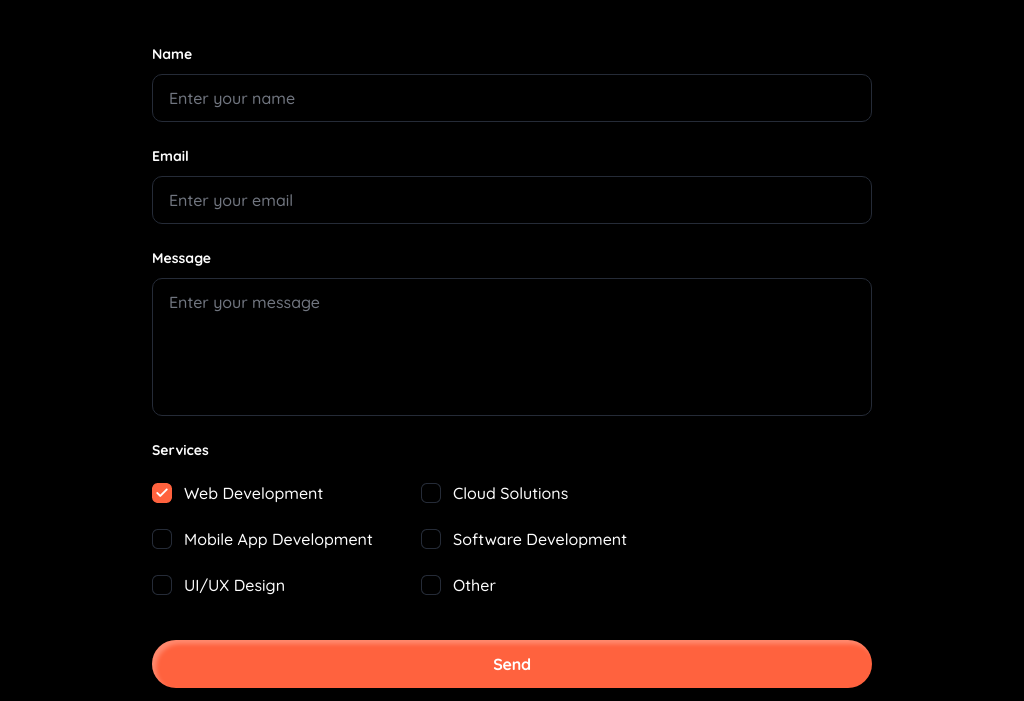
Test: ContactFormSection › clears the required-field error once the field is filled in
The image size is (1024, 701).
(page scrolled)
Click the button "Send".
click(512, 664)  # box [152, 640, 872, 688]
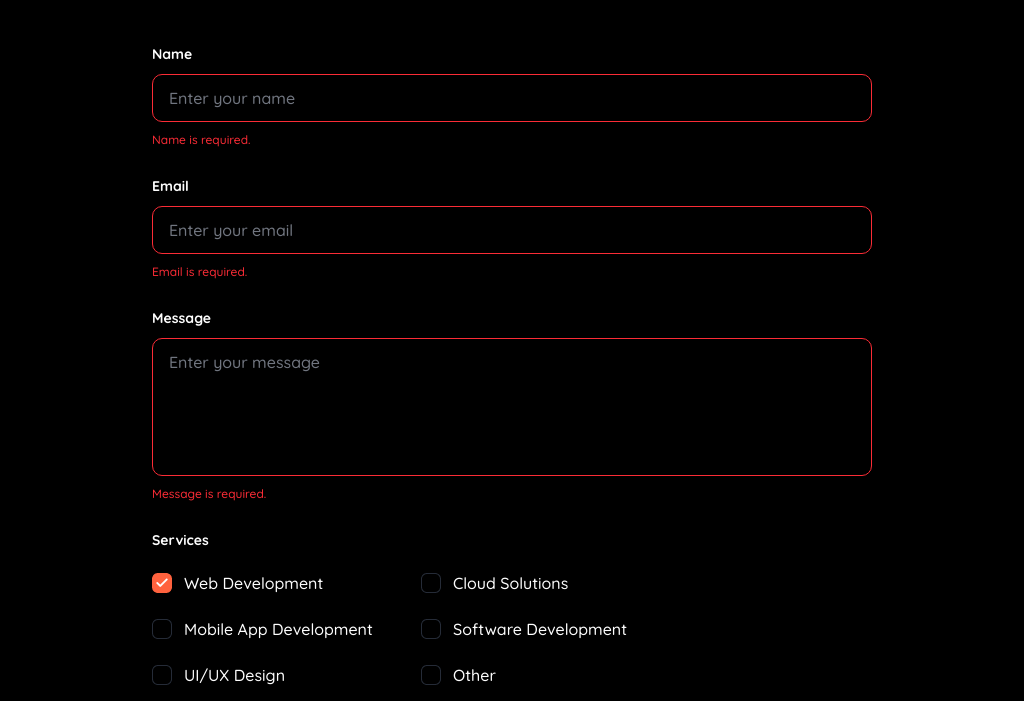
Expected: the text "Name is required." is shown, [152, 128, 250, 152]
Type "Yusuf" into the field labelled "Name".
click(512, 98); type("Yusuf")  # box [152, 74, 872, 122]
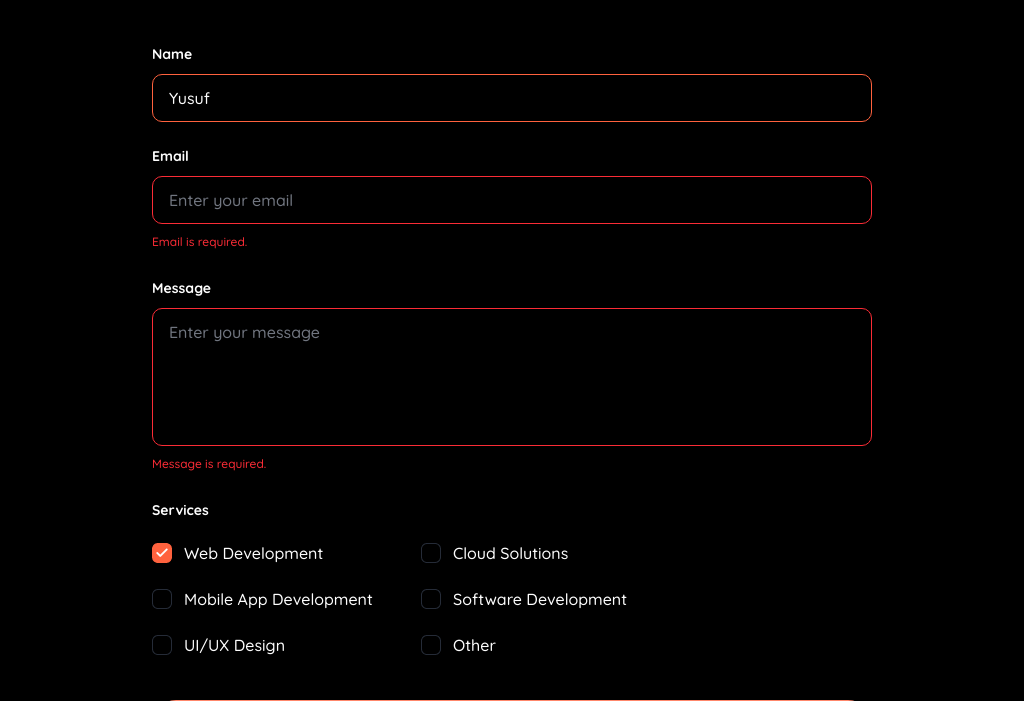
Expected: the text "Name is required." is gone
